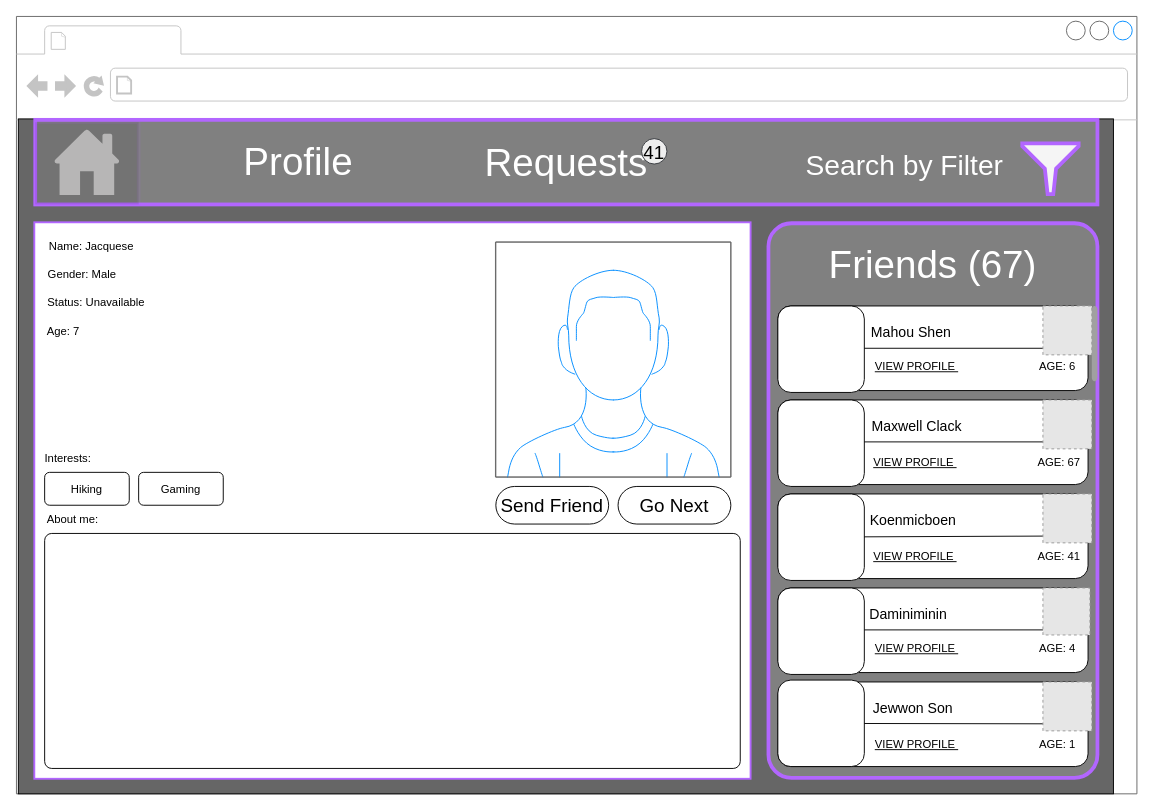
Some shapes in this 1153 by 810 pixel diagram are drawn without their labels. Grey dashed boxes stand in for pictures. The centre of each missing label's shape, as x and y in pixels:
"https://www.didheconnect.io" goes at point 256,84.
"Page 1" goes at point 124,39.
"Yo i like to hike" goes at point 392,650.
